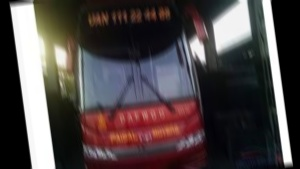bus: (60, 0, 211, 169)
